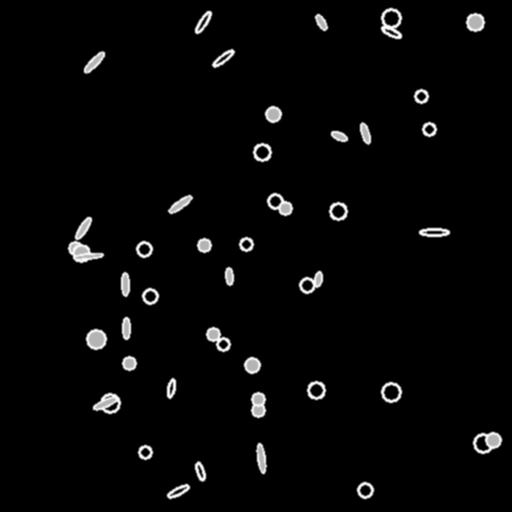pseudomonas: (82, 50, 106, 74), (167, 194, 193, 214), (211, 48, 235, 68), (193, 10, 213, 34), (74, 215, 92, 241), (92, 395, 118, 411), (167, 483, 189, 499), (381, 25, 401, 39), (256, 444, 266, 472), (359, 122, 371, 144), (330, 129, 348, 143), (314, 13, 328, 31), (73, 252, 103, 260), (420, 228, 448, 236), (166, 378, 176, 398), (121, 272, 129, 296), (195, 462, 205, 480), (313, 271, 323, 287), (225, 267, 233, 285), (123, 318, 129, 338)
synechocystis: (382, 9, 400, 27), (474, 434, 492, 452), (101, 394, 119, 412), (87, 330, 105, 348), (382, 383, 400, 401), (308, 382, 324, 398), (330, 203, 346, 219), (254, 144, 270, 160), (73, 245, 89, 261), (467, 14, 483, 30), (245, 358, 259, 372), (300, 278, 314, 292), (358, 483, 372, 497), (486, 433, 500, 447), (143, 289, 157, 303), (137, 242, 151, 256), (268, 194, 282, 208), (266, 107, 280, 121), (123, 357, 135, 369), (139, 446, 151, 458), (207, 328, 219, 340), (240, 238, 252, 250), (423, 123, 435, 135), (198, 239, 210, 251), (252, 404, 264, 416), (252, 393, 264, 405), (69, 242, 81, 254), (279, 202, 291, 214), (217, 338, 229, 350), (415, 90, 427, 102)
